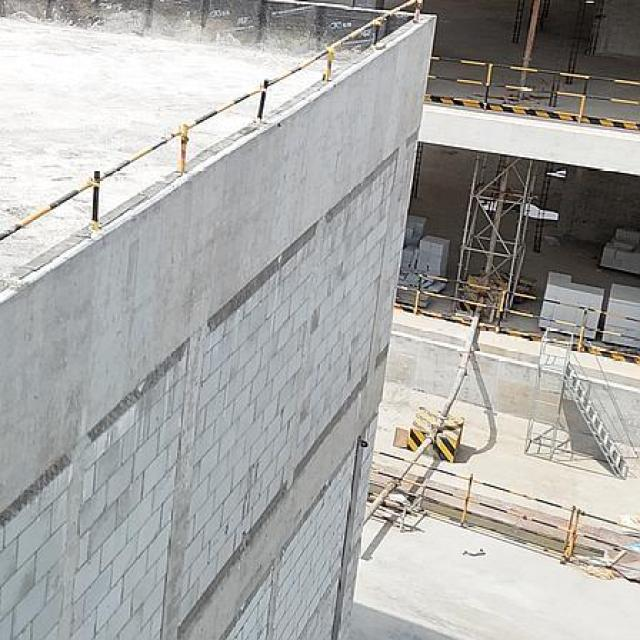Guardrail: (0, 0, 424, 241), (397, 272, 640, 351), (425, 54, 640, 119)
